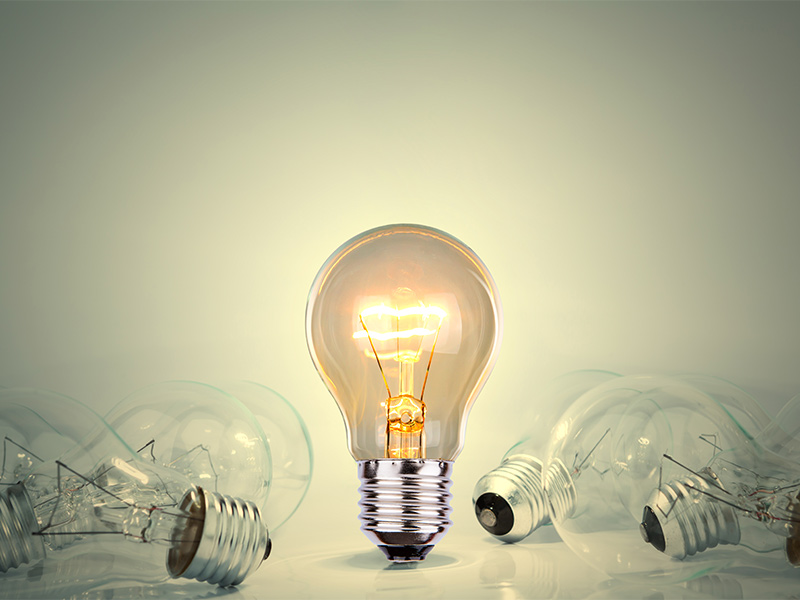Light_bulb: (296, 215, 507, 576), (535, 346, 800, 600), (3, 380, 281, 600)
